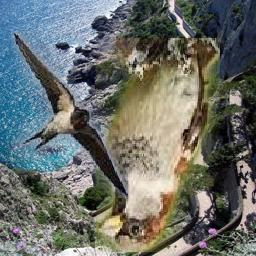Sparrow: (96, 38, 220, 252)
Swallow: (12, 32, 129, 199)
